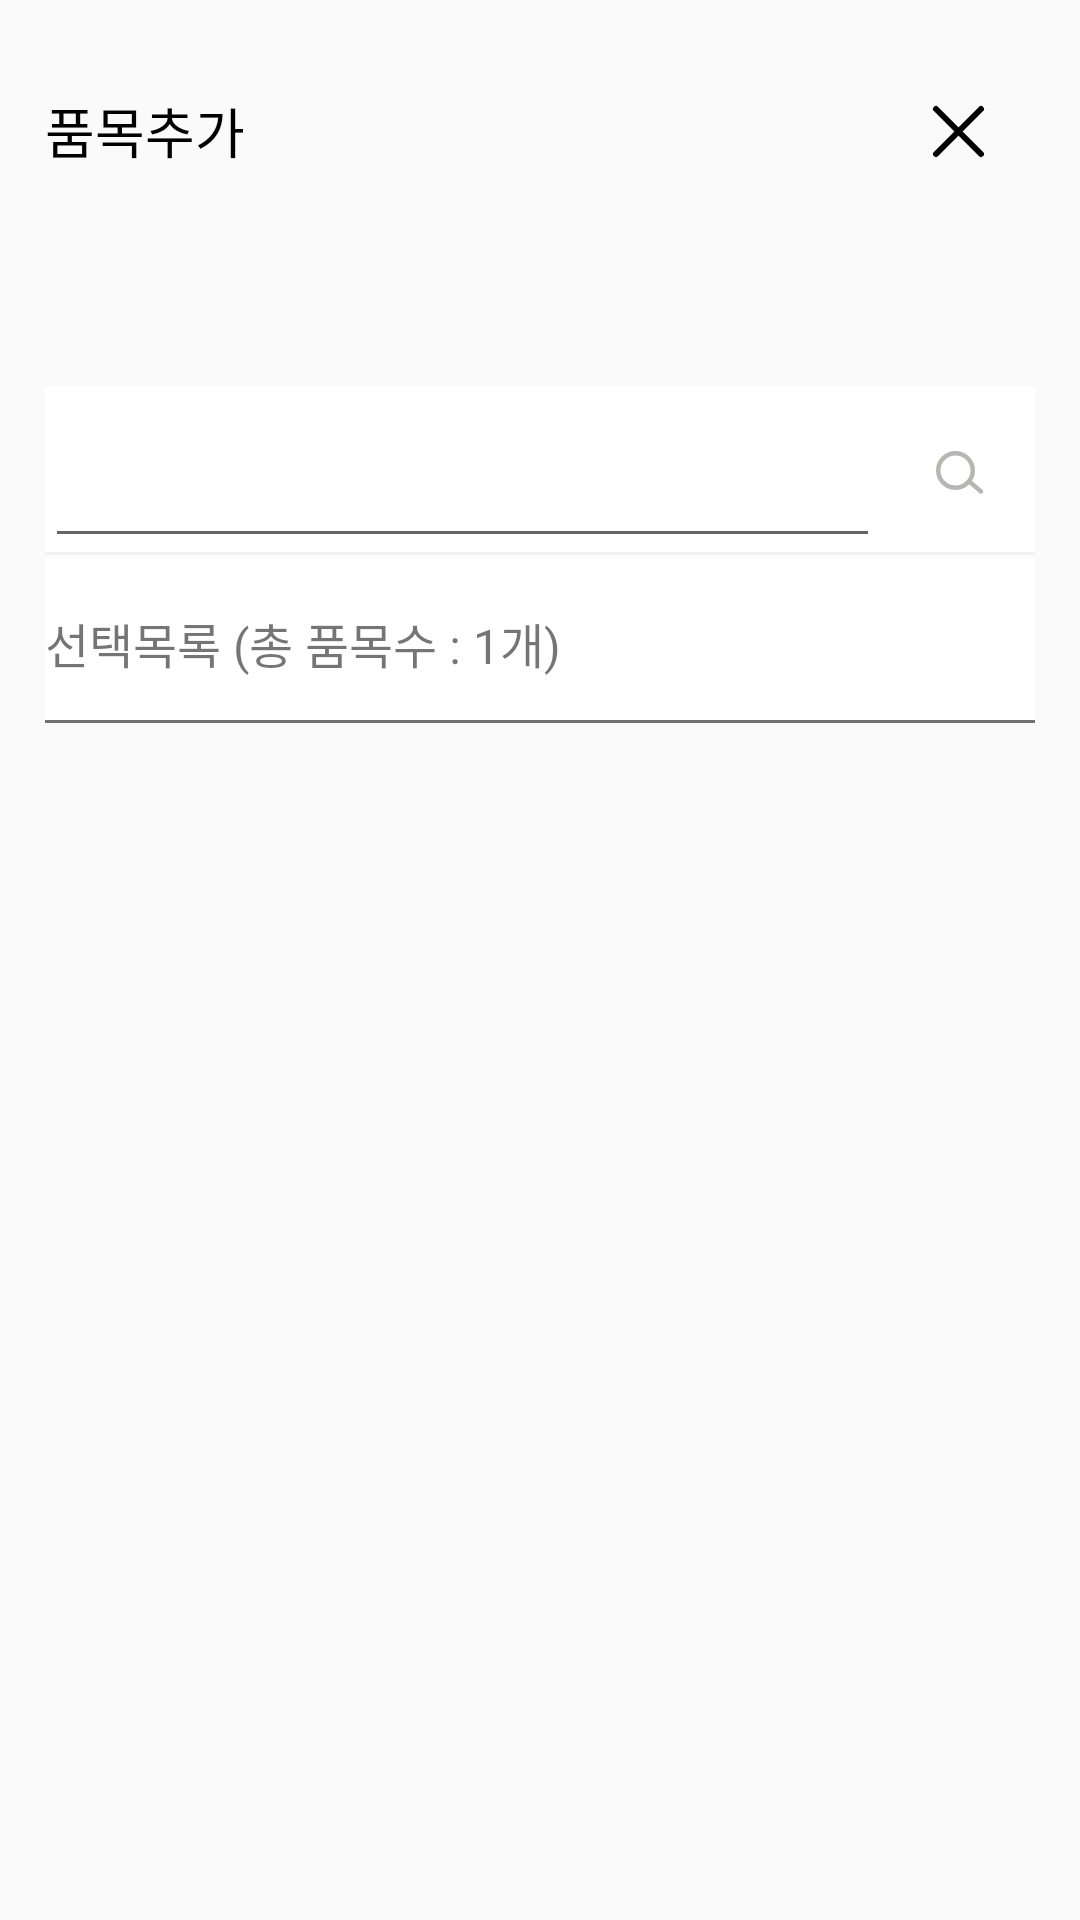

Named icons in this screenshot (1080px x 1920px) and their bounding boxes, (x1,y1,x2,y2):
btnclose: (933,105,984,157)
btnsearch: (936,451,983,494)
